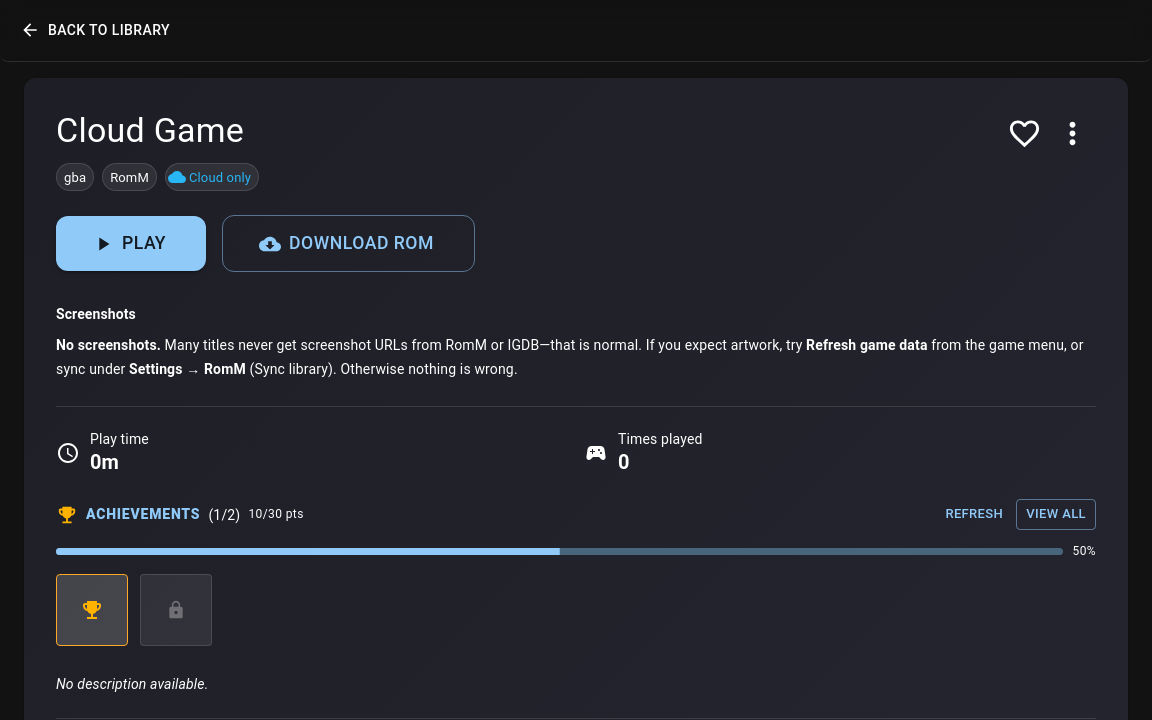
GameDetails RetroAchievements delivery › delivers mapped achievement rows through the RomM details seam
This screenshot has width=1152, height=720.
expect the text "(1/2)" is shown: met, box [208,505,240,525]
Click the button "View all" at point(1056, 515), box [1016,499,1096,530]
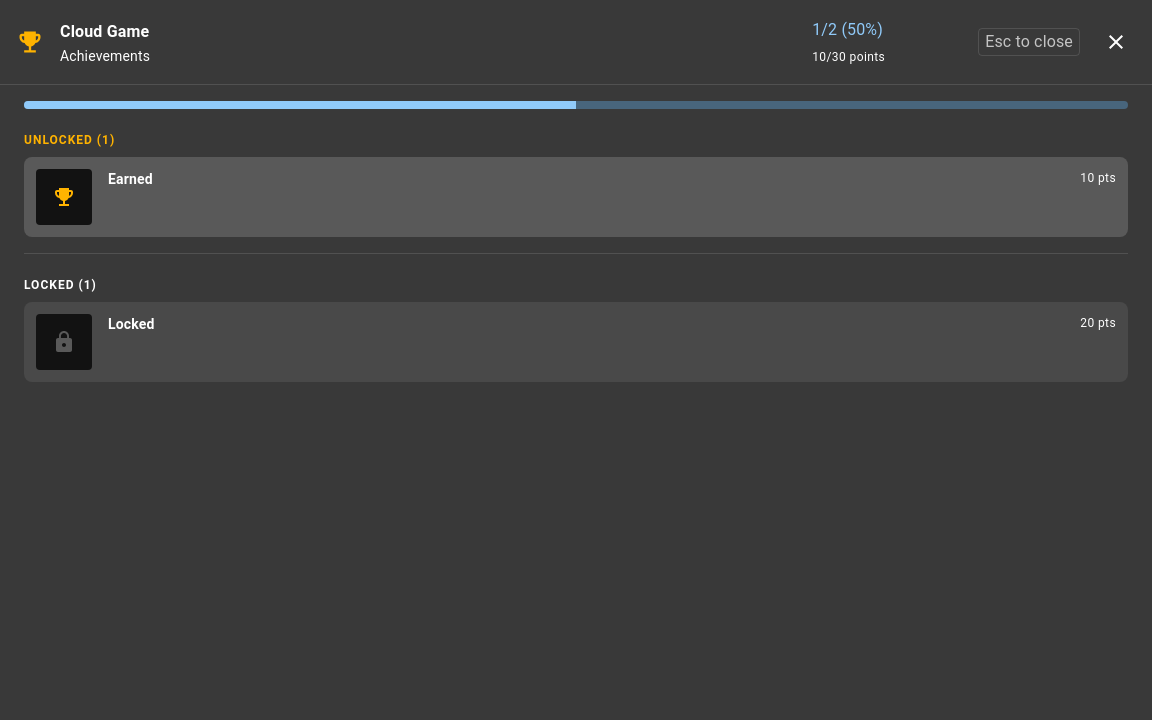
expect the text "Earned" is shown: met, box [108,171,153,187]
expect the text "Locked" is shown: met, box [108,316,154,332]
